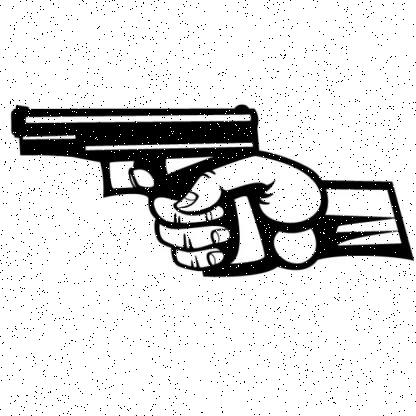pistol: (9, 102, 284, 281)
